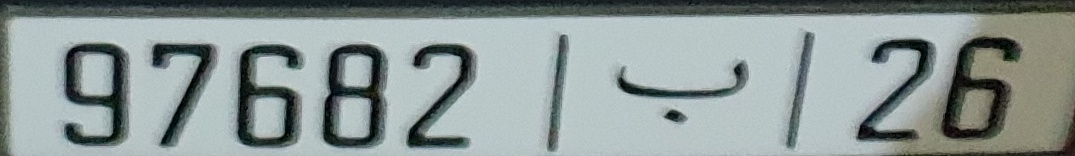2: (852, 32, 932, 143), (402, 38, 477, 146)
6: (938, 33, 1024, 145), (236, 37, 307, 150)
7: (147, 39, 218, 146)
8: (321, 38, 390, 148)
9: (61, 41, 128, 147)
b: (605, 47, 752, 128)
